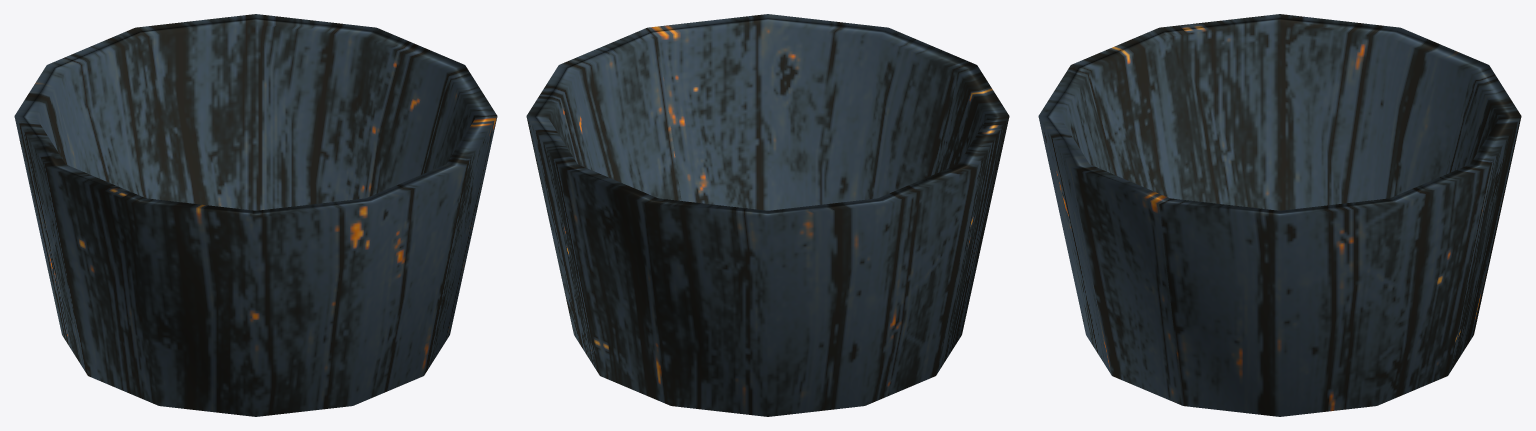
File: woodenBucket.fbx
3 renders of one model, left to right at view 1: azimuth 30°, elevation 25°; view 2: azimuth 150°, elevation 25°; view 3: azimuth 270°, elevation 25°, orthographic.
Parts seen in each view (by area): view 1: woodenBucket; view 2: woodenBucket; view 3: woodenBucket.
Part boxes in pixels (<box>): woodenBucket: <box>14,14,497,416</box>; woodenBucket: <box>526,14,1009,416</box>; woodenBucket: <box>1038,14,1521,416</box>.
Bounding box in the file's own units: 1.08 × 0.5417 × 1.08.
